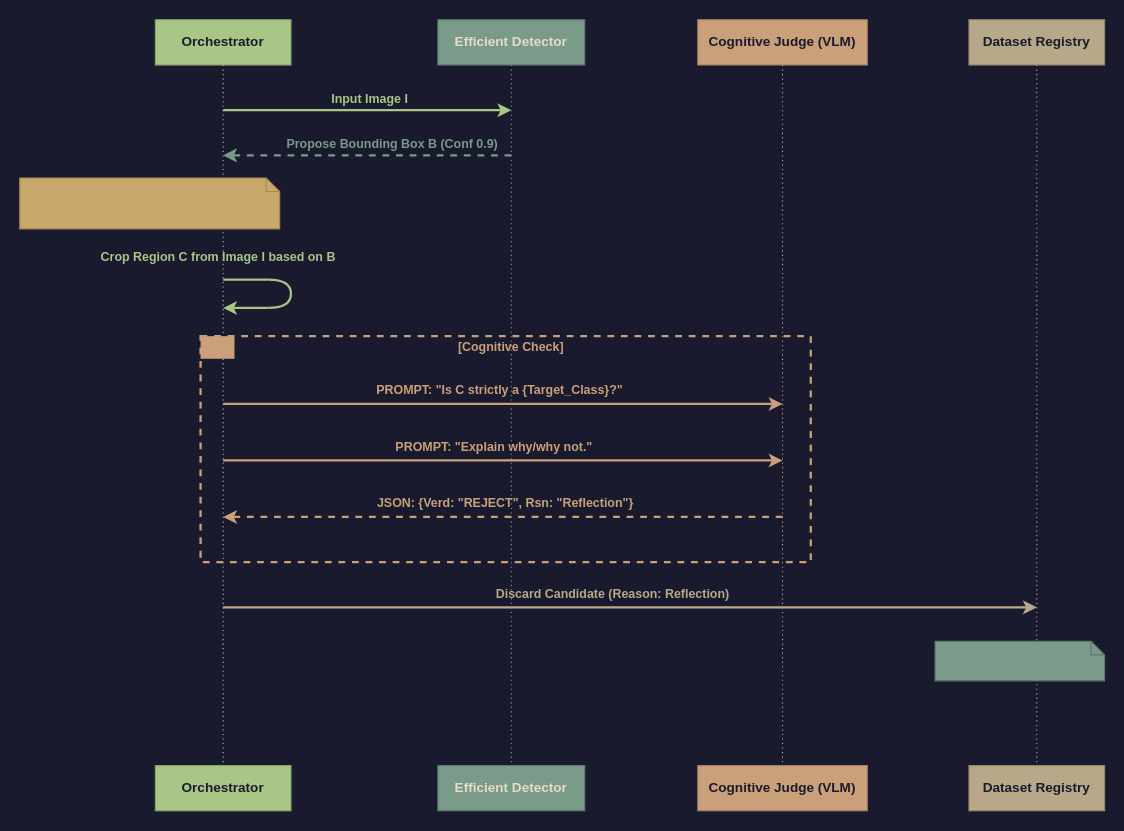
Image size: 1124x831. Some labels were removed from this diagram. The shapes that lost their labels are listed below. From the top down, each one's centre as x and y in pixels, then its label:
(x=149, y=203): "Standard pipelines stop here.\nWe proceed to Cognitive QA."
(x=217, y=347): par
(x=1019, y=660): "Dataset remains clean."
